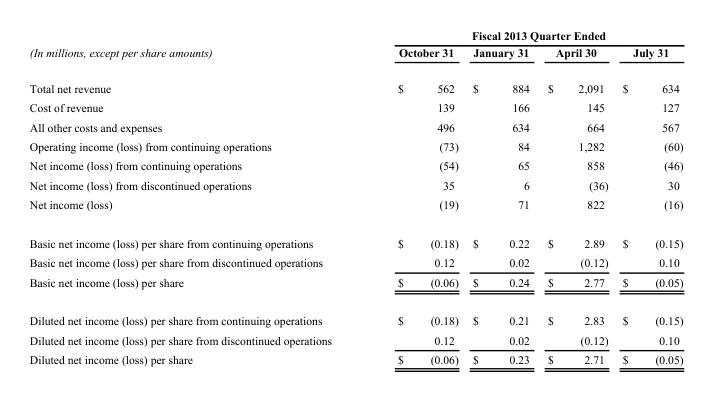table: (28, 28, 682, 365)
table column: (28, 28, 364, 365), (364, 28, 464, 365), (537, 28, 614, 365), (464, 28, 537, 365), (614, 28, 682, 365)
table column header: (28, 28, 682, 70)
table row: (28, 194, 682, 223), (28, 223, 682, 252), (28, 272, 682, 301), (28, 301, 682, 330), (28, 43, 682, 70), (28, 70, 682, 97), (28, 97, 682, 117), (28, 155, 682, 175), (28, 252, 682, 272), (28, 117, 682, 136), (28, 136, 682, 155), (28, 175, 682, 194), (28, 330, 682, 349), (28, 349, 682, 365), (28, 28, 682, 43)
table spanning cell: (28, 28, 364, 70), (364, 28, 682, 43)
